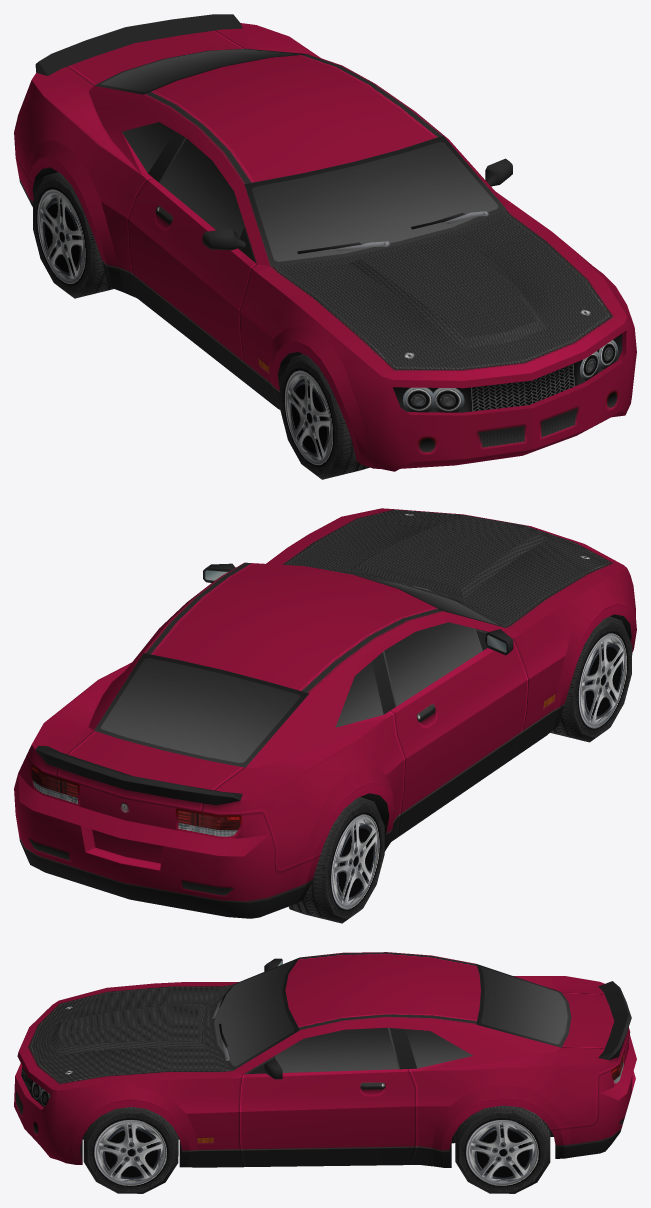
File: Modern_Muscle_Car.fbx
3 views of the same model, one above another, from view 1: azimuth 30°, elevation 25°; view 2: azimuth 150°, elevation 25°; view 3: azimuth 270°, elevation 25° (orthographic). The views are drawn at different scales.
Visible parts, largest first — view 1: Chassis, RF_Wheel, RR_Wheel; view 2: Chassis, RR_Wheel, RF_Wheel; view 3: Chassis, LR_Wheel, LF_Wheel.
Part boxes in pixels (x1=…): Chassis: x1=14, y1=14, x2=636, y2=471; RF_Wheel: x1=280, y1=354, x2=369, y2=479; RR_Wheel: x1=33, y1=172, x2=113, y2=298; Chassis: x1=14, y1=508, x2=636, y2=918; RR_Wheel: x1=289, y1=797, x2=384, y2=923; RF_Wheel: x1=550, y1=616, x2=632, y2=742; Chassis: x1=14, y1=952, x2=636, y2=1167; LR_Wheel: x1=455, y1=1105, x2=550, y2=1193; LF_Wheel: x1=83, y1=1107, x2=178, y2=1193.
Size of the model in its own units: 2.32 by 1.58 by 5.47.
Materials: 2 (2 with a texture image).
